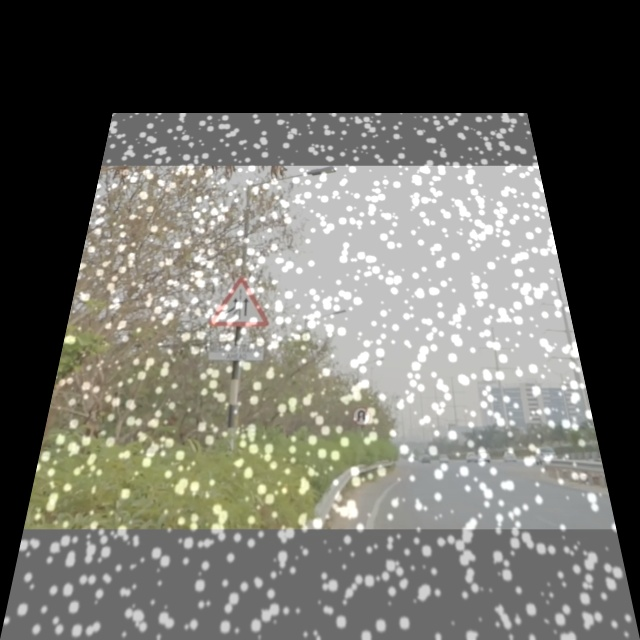Merge_Traffic_Ahead: (204, 268, 273, 330)
